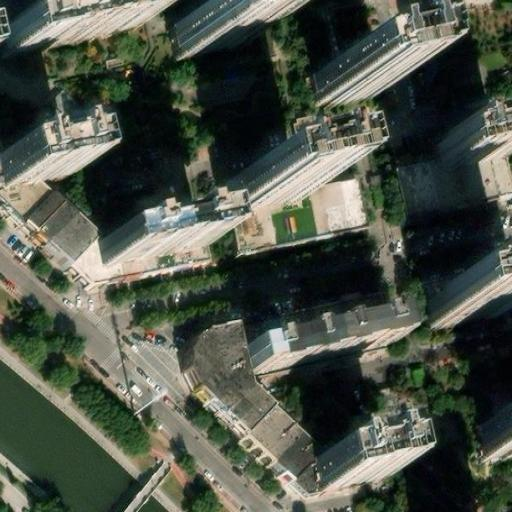building: (184, 337, 322, 505), (0, 177, 124, 295), (240, 327, 393, 384), (89, 223, 201, 277), (216, 162, 300, 214), (310, 450, 388, 502), (163, 5, 239, 58), (419, 283, 501, 330), (308, 57, 384, 104), (0, 132, 65, 183), (429, 124, 500, 169), (467, 404, 512, 450), (285, 188, 340, 225)
